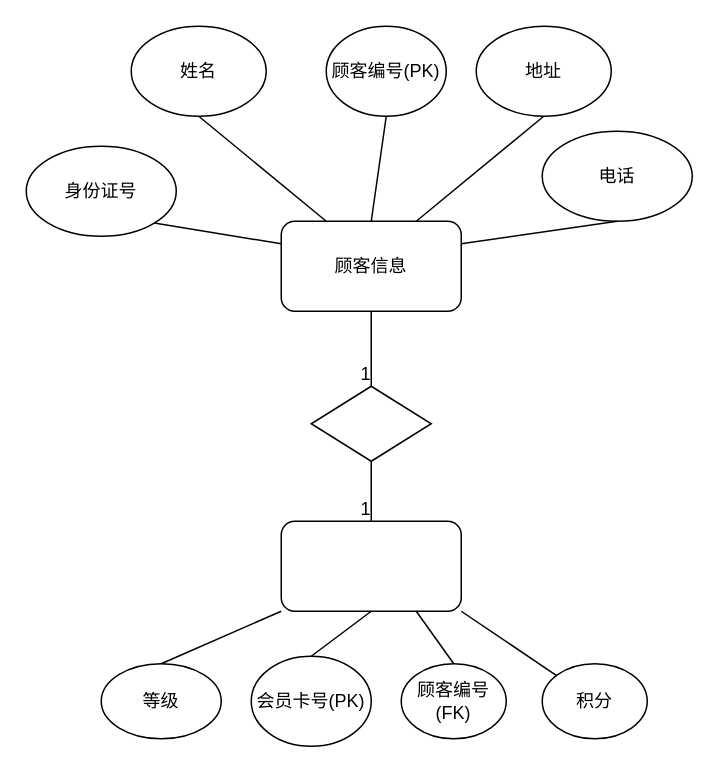
Some shapes in this 719 by 773 pixel diagram are drawn without their labels. Each missing label, with the centre of its shape:
会员卡信息: (x=370, y=565)
办理: (x=370, y=423)
